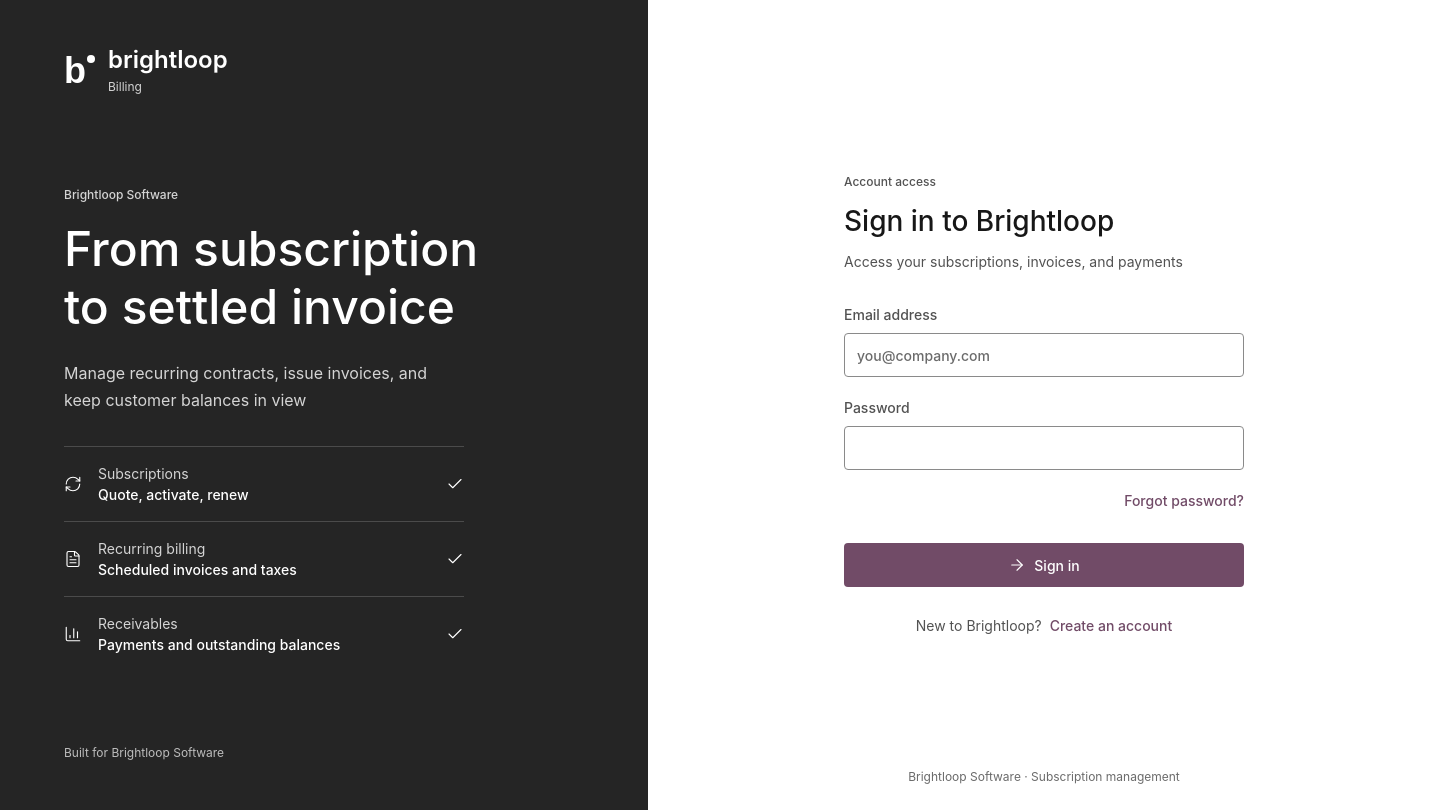
Test: authentication workflows › logs in with cookie credentials and renders live metrics
Type "alex@example.test" into the field labelled "Email address" at (1044, 355), box [844,333,1244,377]
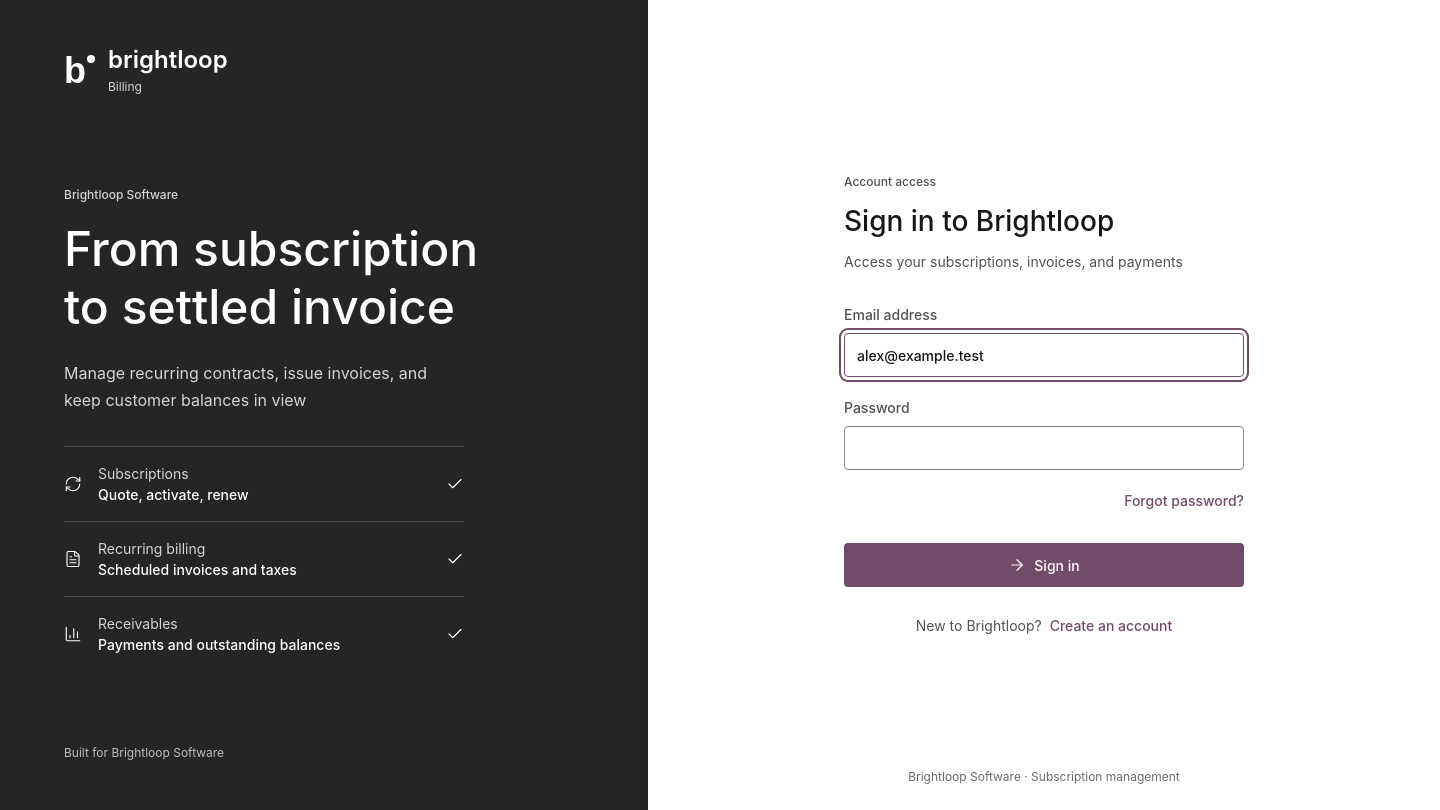
Type "SecurePass!23" into the password field labelled "Password" at (1044, 448), box [844,426,1244,470]
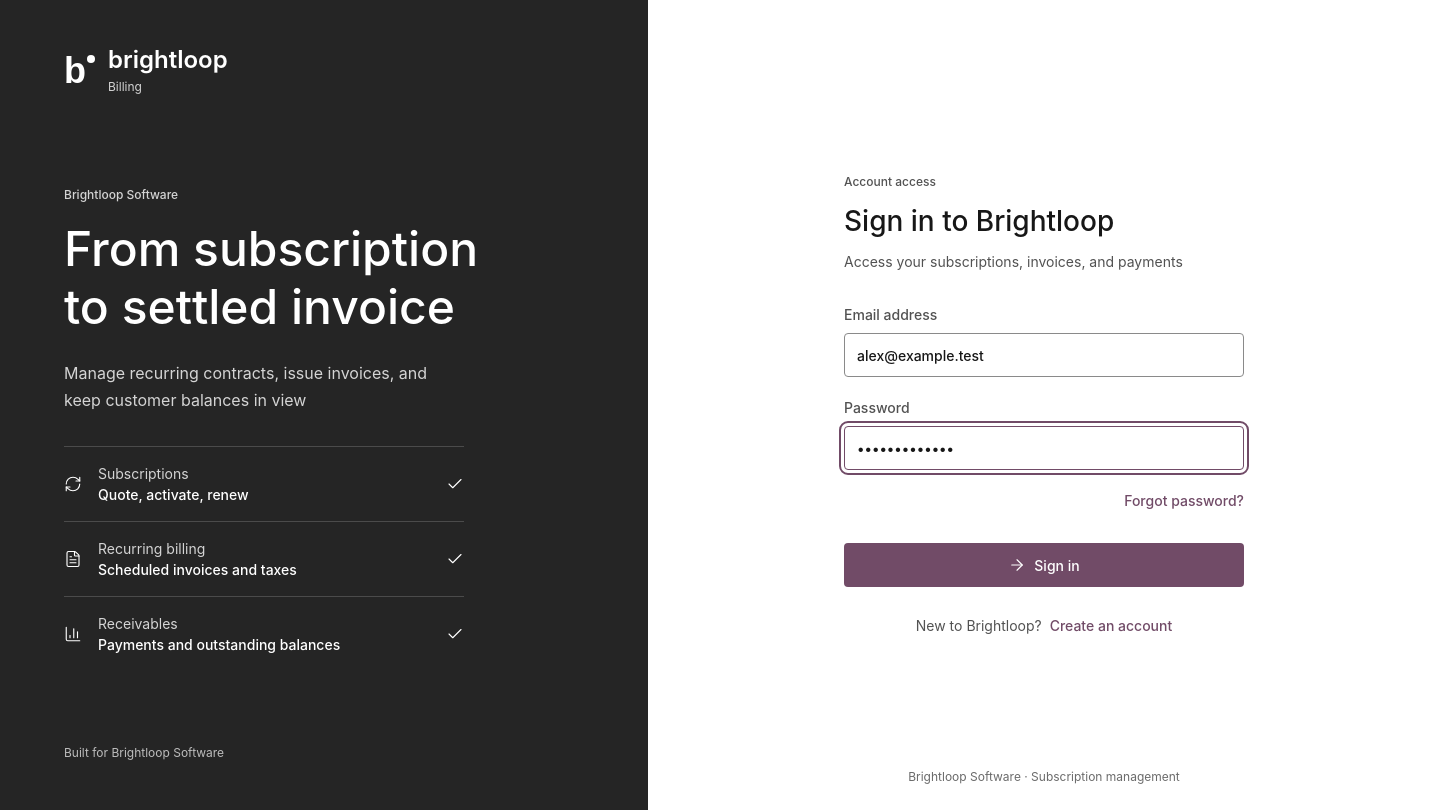
Click the button "Sign in" at (1044, 565), box [844,543,1244,587]
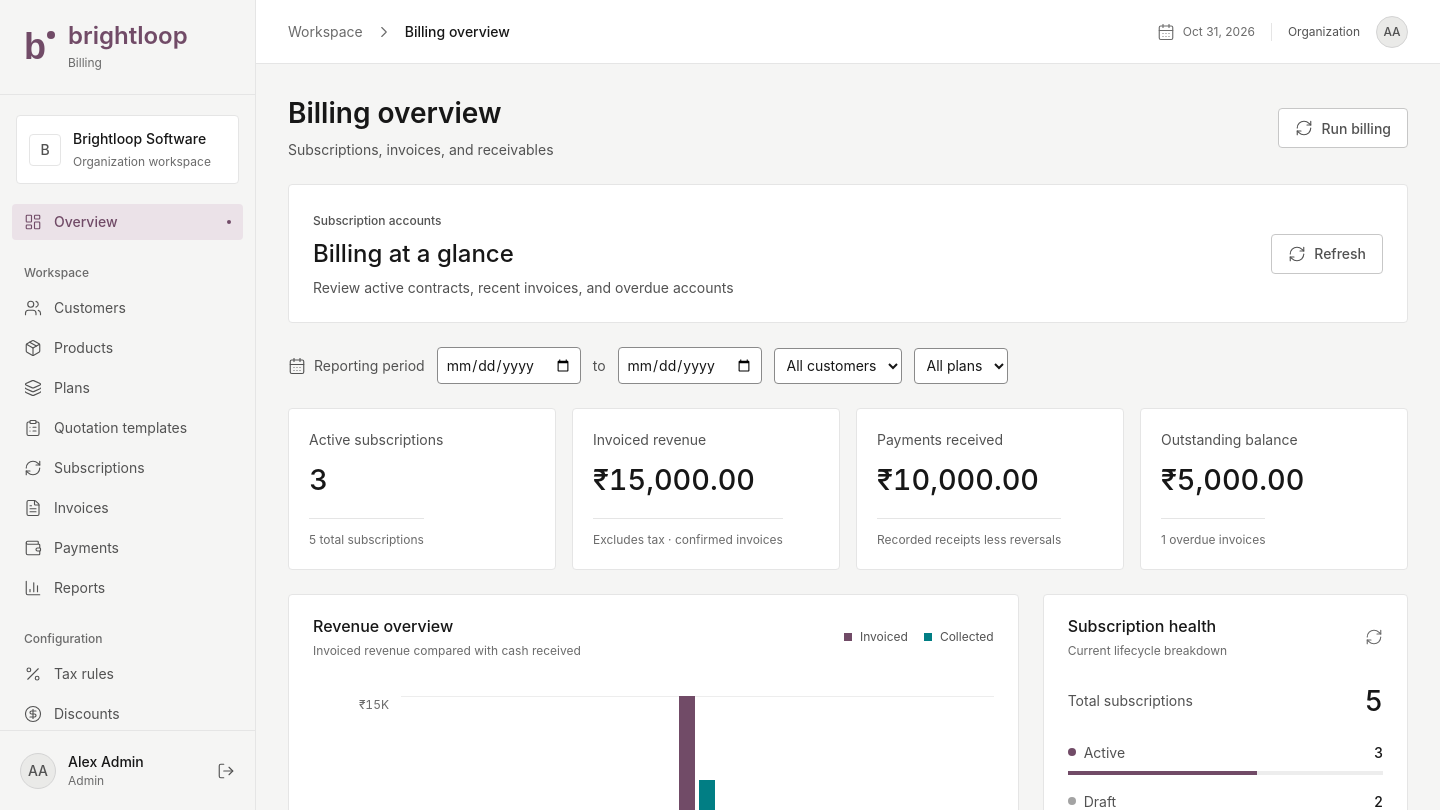
Expected: the heading "Billing at a glance" is shown, [313,239,514,268]
Expected: the button "Active subscriptions 3 5 total subscriptions" is shown, [288,408,556,570]
